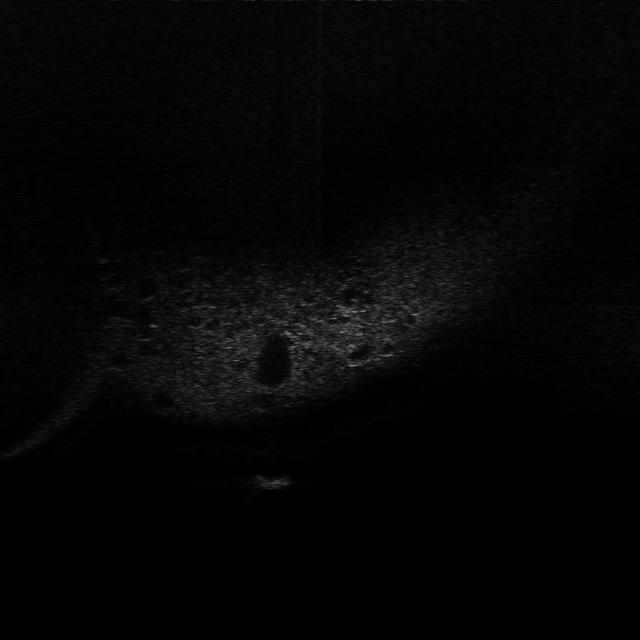cube: (253, 466, 301, 494)
